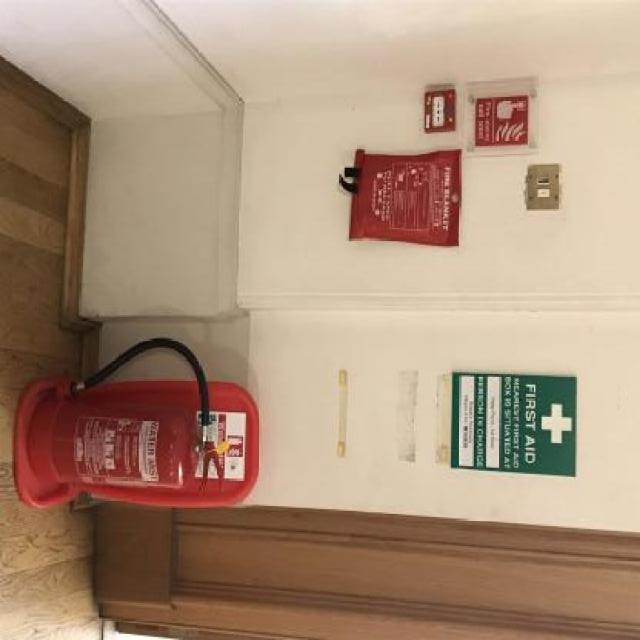fire extinguisher: (31, 335, 226, 497)
